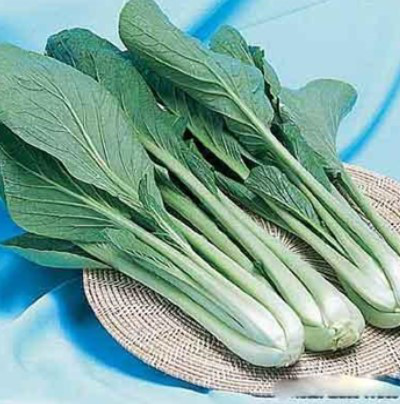Sawi: (11, 20, 399, 370)
